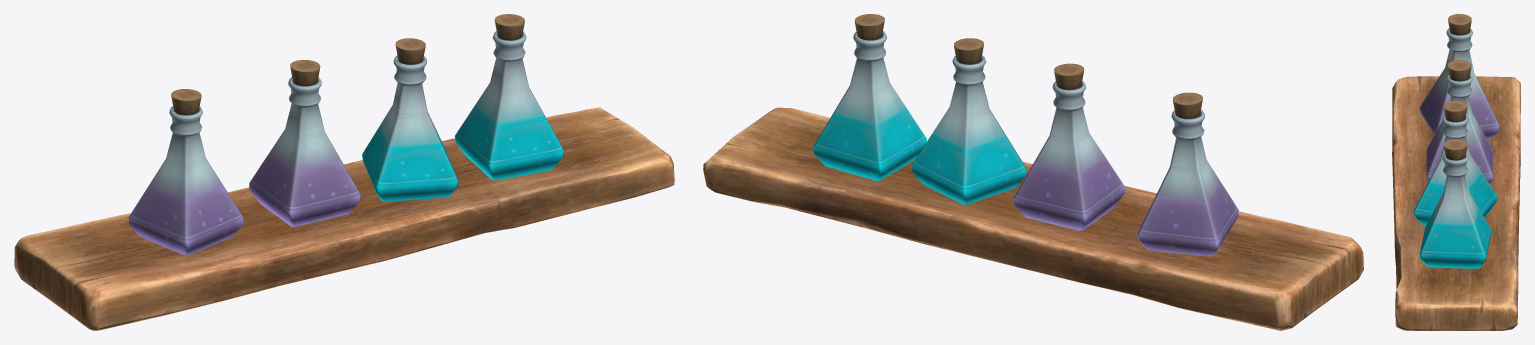
The picture shows the model from 3 angles, left to right: view 1: azimuth 30°, elevation 25°; view 2: azimuth 150°, elevation 25°; view 3: azimuth 270°, elevation 25°; orthographic projection. The views are drawn at different scales.
Parts seen in each view (by area): view 1: SM_Dec_Potion_Shelve_01_LOD0; view 2: SM_Dec_Potion_Shelve_01_LOD0; view 3: SM_Dec_Potion_Shelve_01_LOD0.
Boxes of the visible parts, x1,y1,x2,y2 form: SM_Dec_Potion_Shelve_01_LOD0: (14,14,674,330); SM_Dec_Potion_Shelve_01_LOD0: (703,14,1363,330); SM_Dec_Potion_Shelve_01_LOD0: (1392,14,1520,330).
Size of the model in its own units: 1.01 by 0.2901 by 0.2425.
3 materials, 3 textured.
